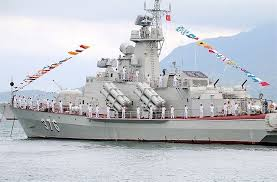ten_lua: (98, 84, 129, 110), (135, 82, 161, 112)
